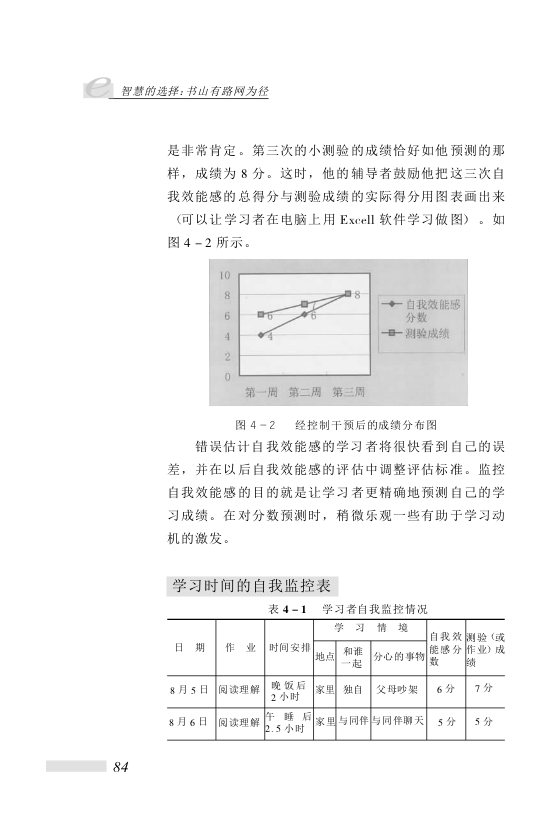table: (167, 617, 504, 740)
